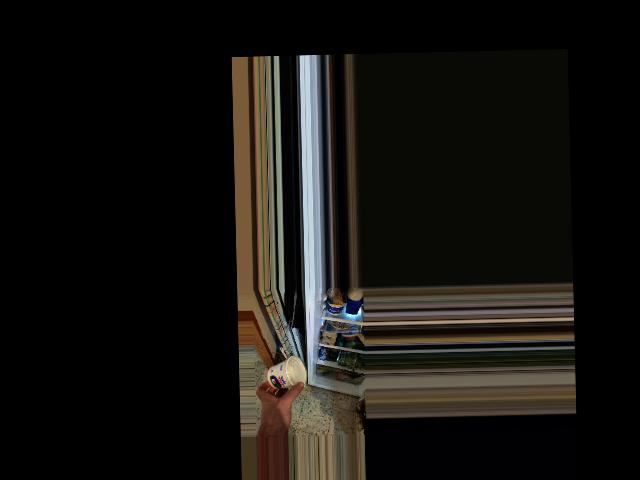cotage: (266, 353, 300, 392)
